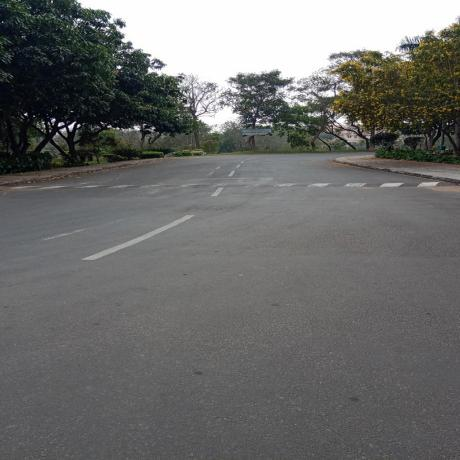Speed Bump: (7, 180, 453, 191)
